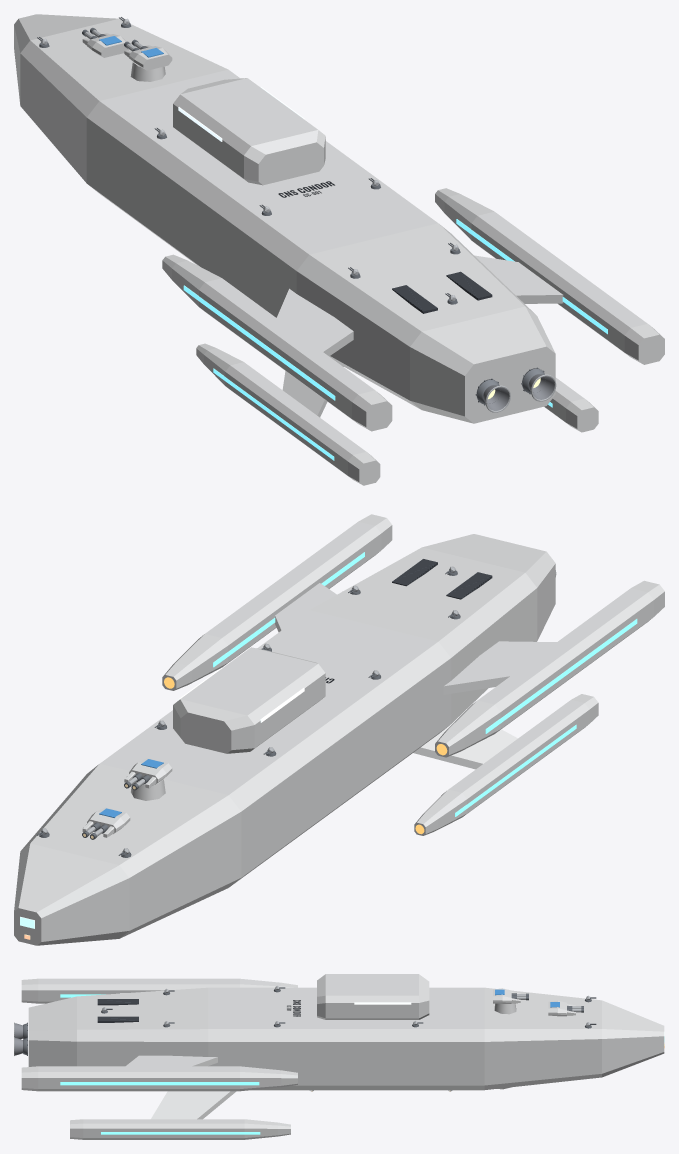
File: condor.glb
The picture shows the model from 3 angles, top to bottom: view 1: azimuth 30°, elevation 25°; view 2: azimuth 150°, elevation 25°; view 3: azimuth 270°, elevation 25°; orthographic projection. The views are drawn at different scales.
Parts seen in each view (by area): view 1: hull, command_paint_plain, nacelle_port_paint_nacelle, nacelle_starboard_paint_nacelle, nacelle_port_2_paint_nacelle, pylon_port_paint_plain, hull_weapons_paint_plain, nacelle_starboard_2_paint_nacelle, hull_radiator, nacelle_starboard_paint_plain, pylon_starboard_paint_plain, hull_drive_bell (+4 smaller); view 2: hull, command_paint_plain, nacelle_port_paint_nacelle, nacelle_starboard_paint_nacelle, nacelle_port_2_paint_nacelle, pylon_port_paint_plain, hull_weapons_paint_plain, nacelle_port_2_paint_plain, hull_radiator, nacelle_starboard_paint_plain, nacelle_port_glow_grille, hull_weapons_metal_2a2f36 (+1 smaller); view 3: hull, nacelle_starboard_paint_nacelle, command_paint_plain, nacelle_starboard_2_paint_nacelle, nacelle_port_paint_nacelle, pylon_starboard_2_paint_plain, nacelle_starboard_2_paint_plain, pylon_starboard_paint_plain, hull_weapons_paint_plain, nacelle_starboard_glow_grille, hull_radiator, nacelle_starboard_2_glow_grille (+2 smaller).
Part boxes in pixels (bbox=[...]): hull: bbox=[14, 14, 555, 423]; command_paint_plain: bbox=[173, 78, 325, 185]; nacelle_port_paint_nacelle: bbox=[162, 254, 392, 431]; nacelle_starboard_paint_nacelle: bbox=[435, 188, 664, 364]; nacelle_port_2_paint_nacelle: bbox=[196, 343, 380, 485]; pylon_port_paint_plain: bbox=[280, 288, 353, 354]; hull_weapons_paint_plain: bbox=[82, 33, 172, 81]; nacelle_starboard_2_paint_nacelle: bbox=[544, 377, 598, 432]; hull_radiator: bbox=[392, 271, 492, 313]; nacelle_starboard_paint_plain: bbox=[490, 258, 563, 303]; pylon_starboard_paint_plain: bbox=[475, 255, 540, 303]; hull_drive_bell: bbox=[483, 374, 554, 410]; hull: bbox=[14, 534, 555, 945]; command_paint_plain: bbox=[173, 647, 325, 753]; nacelle_port_paint_nacelle: bbox=[435, 580, 664, 757]; nacelle_starboard_paint_nacelle: bbox=[162, 514, 392, 690]; nacelle_port_2_paint_nacelle: bbox=[414, 694, 598, 835]; pylon_port_paint_plain: bbox=[443, 641, 539, 694]; hull_weapons_paint_plain: bbox=[82, 758, 172, 837]; nacelle_port_2_paint_plain: bbox=[450, 729, 517, 769]; hull_radiator: bbox=[392, 559, 492, 599]; nacelle_starboard_paint_plain: bbox=[275, 583, 331, 632]; nacelle_port_glow_grille: bbox=[485, 619, 637, 733]; hull_weapons_metal_2a2f36: bbox=[37, 570, 460, 857]; hull: bbox=[28, 987, 664, 1090]; nacelle_starboard_paint_nacelle: bbox=[21, 1066, 297, 1091]; command_paint_plain: bbox=[317, 974, 429, 1019]; nacelle_starboard_2_paint_nacelle: bbox=[70, 1119, 290, 1139]; nacelle_port_paint_nacelle: bbox=[21, 978, 297, 1003]; pylon_starboard_2_paint_plain: bbox=[160, 1091, 236, 1108]; nacelle_starboard_2_paint_plain: bbox=[151, 1104, 214, 1119]; pylon_starboard_paint_plain: bbox=[127, 1055, 217, 1066]; hull_weapons_paint_plain: bbox=[493, 988, 575, 1089]; nacelle_starboard_glow_grille: bbox=[60, 1082, 259, 1085]; hull_radiator: bbox=[97, 999, 138, 1022]; nacelle_starboard_2_glow_grille: bbox=[101, 1132, 260, 1134].
Size of the model in its own units: 66.58 by 37.6 by 188.
19 materials, 2 textured.
